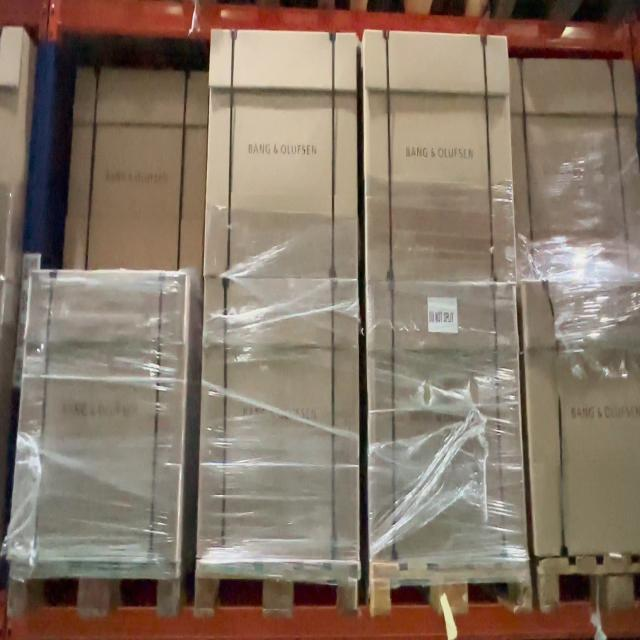box: (28, 276, 180, 563), (202, 281, 356, 558), (368, 283, 515, 562), (367, 32, 508, 276), (215, 31, 356, 272)
